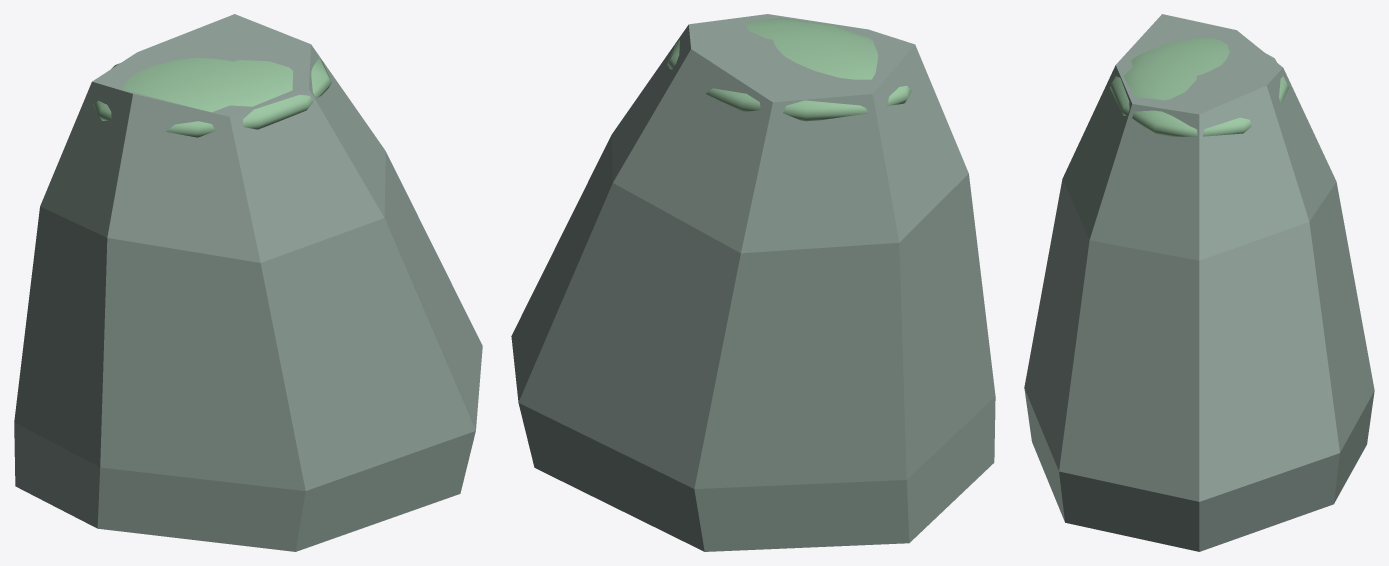
The model's file is golden_basalt.glb.
The picture shows the model from 3 angles, left to right: view 1: azimuth 30°, elevation 25°; view 2: azimuth 150°, elevation 25°; view 3: azimuth 270°, elevation 25°; orthographic projection. The views are drawn at different scales.
Parts seen in each view (by area): view 1: GS_Basalt_Formation_MossRock, GS_Basalt_MossCap_LeafGreen; view 2: GS_Basalt_Formation_MossRock, GS_Basalt_MossCap_LeafGreen; view 3: GS_Basalt_Formation_MossRock, GS_Basalt_MossCap_LeafGreen.
Boxes of the visible parts, x1,y1,x2,y2 form: GS_Basalt_Formation_MossRock: (14, 14, 482, 551); GS_Basalt_MossCap_LeafGreen: (93, 57, 331, 137); GS_Basalt_Formation_MossRock: (511, 14, 995, 551); GS_Basalt_MossCap_LeafGreen: (667, 18, 911, 121); GS_Basalt_Formation_MossRock: (1024, 14, 1374, 551); GS_Basalt_MossCap_LeafGreen: (1109, 37, 1289, 136).
Bounding box in the file's own units: 5.71 × 5.51 × 4.48.
